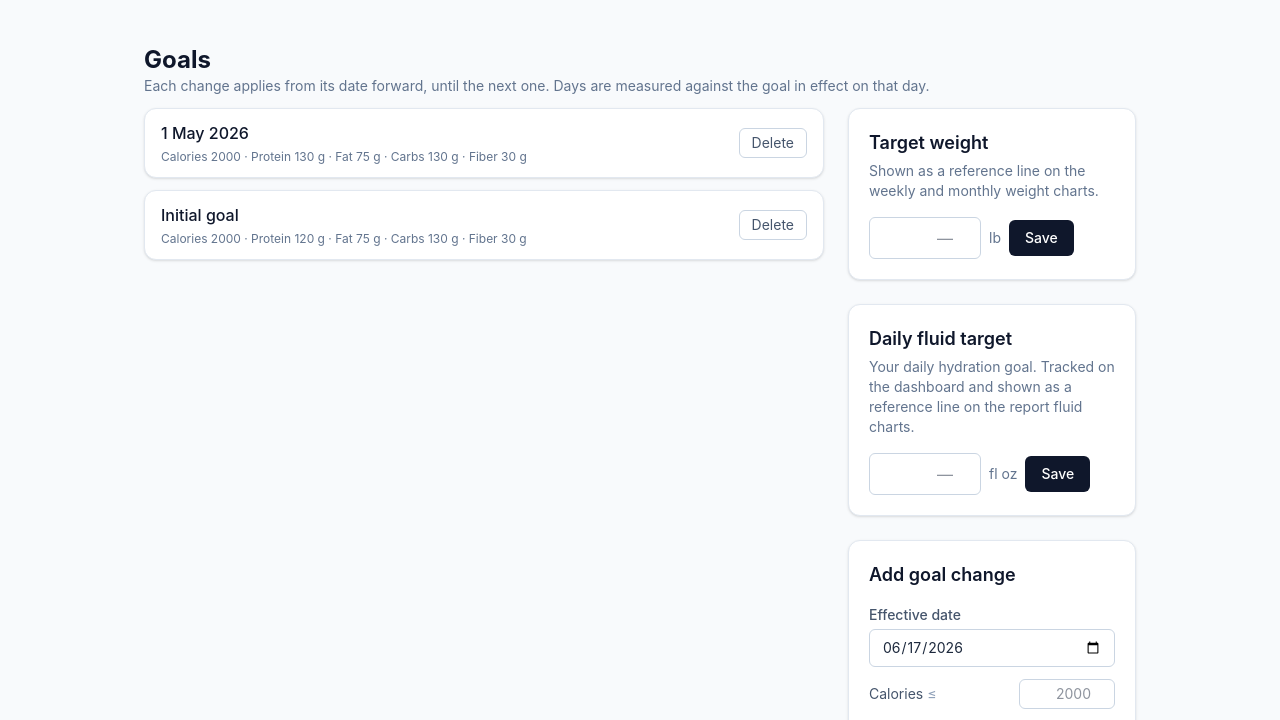
it: GoalsPage › blocks submit and shows an error when a macro is missing
// Fill everything except protein.
Type "2100" into the number field named "Calories goal" at (1067, 694), box 1019,679 -> 1115,709
(page scrolled)
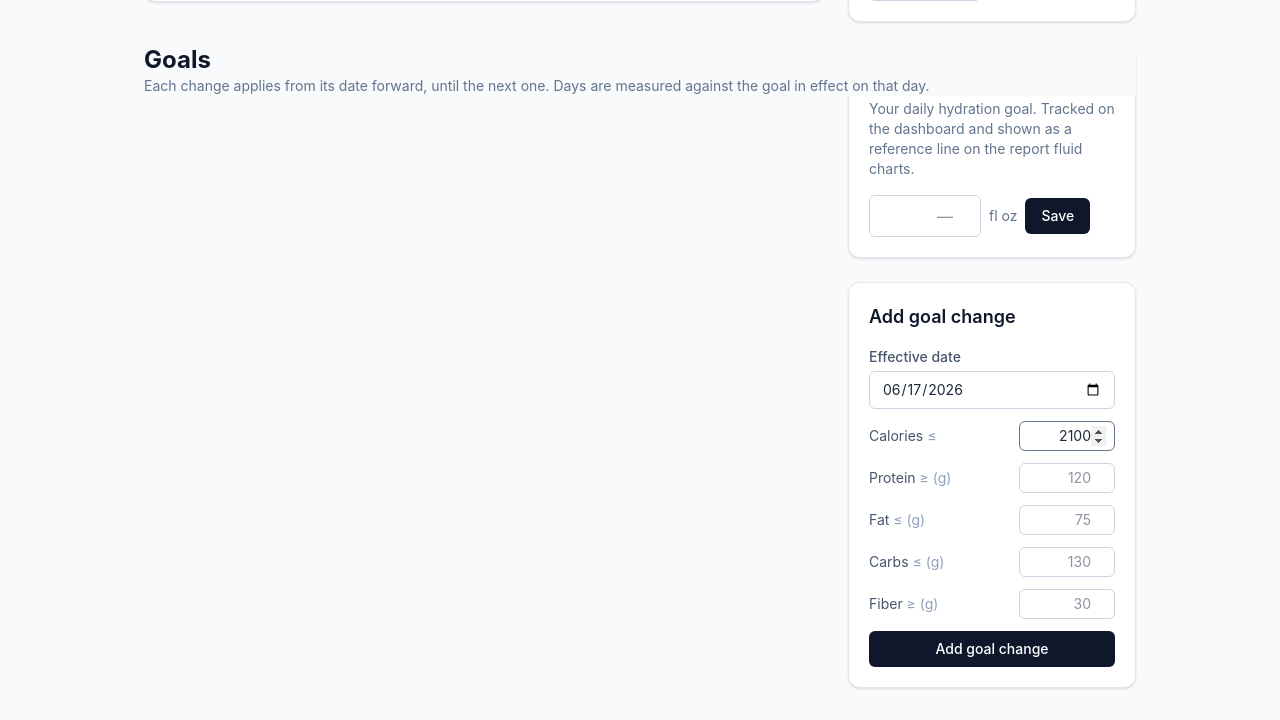
Type "70" into the number field named "Fat goal" at (1067, 520), box 1019,505 -> 1115,535
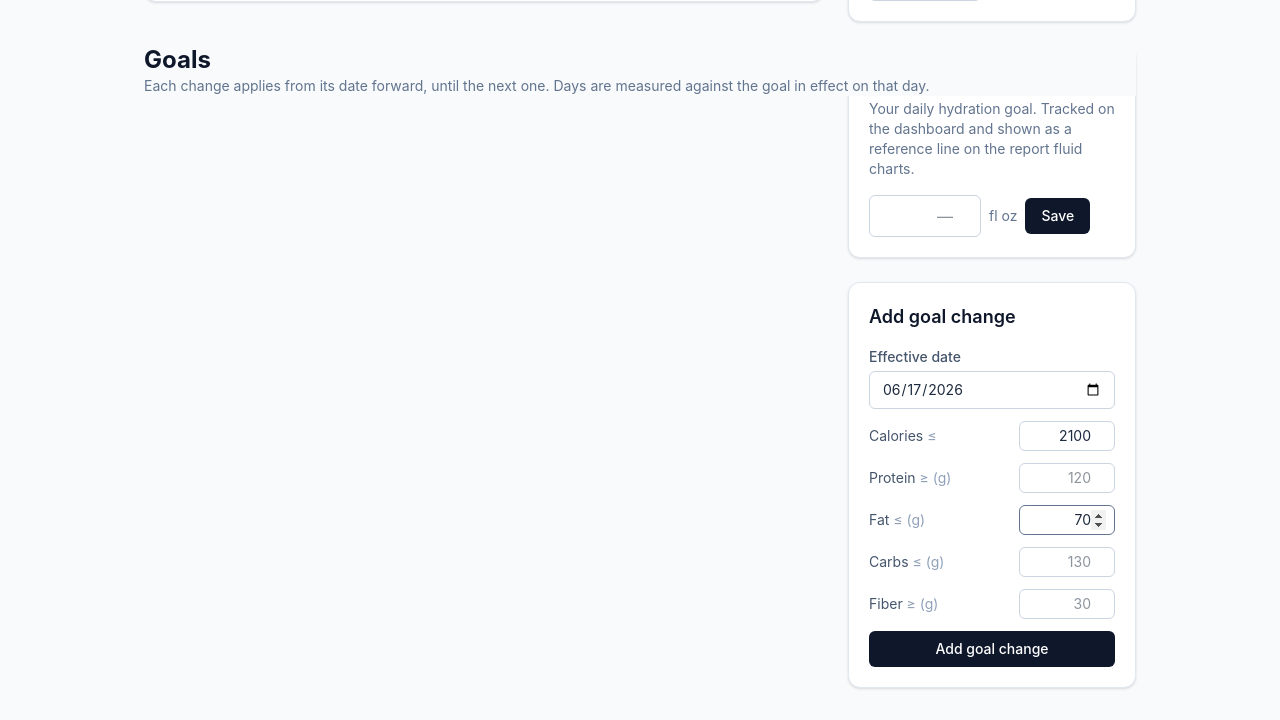
Type "150" into the number field named "Carbs goal" at (1067, 562), box 1019,547 -> 1115,577
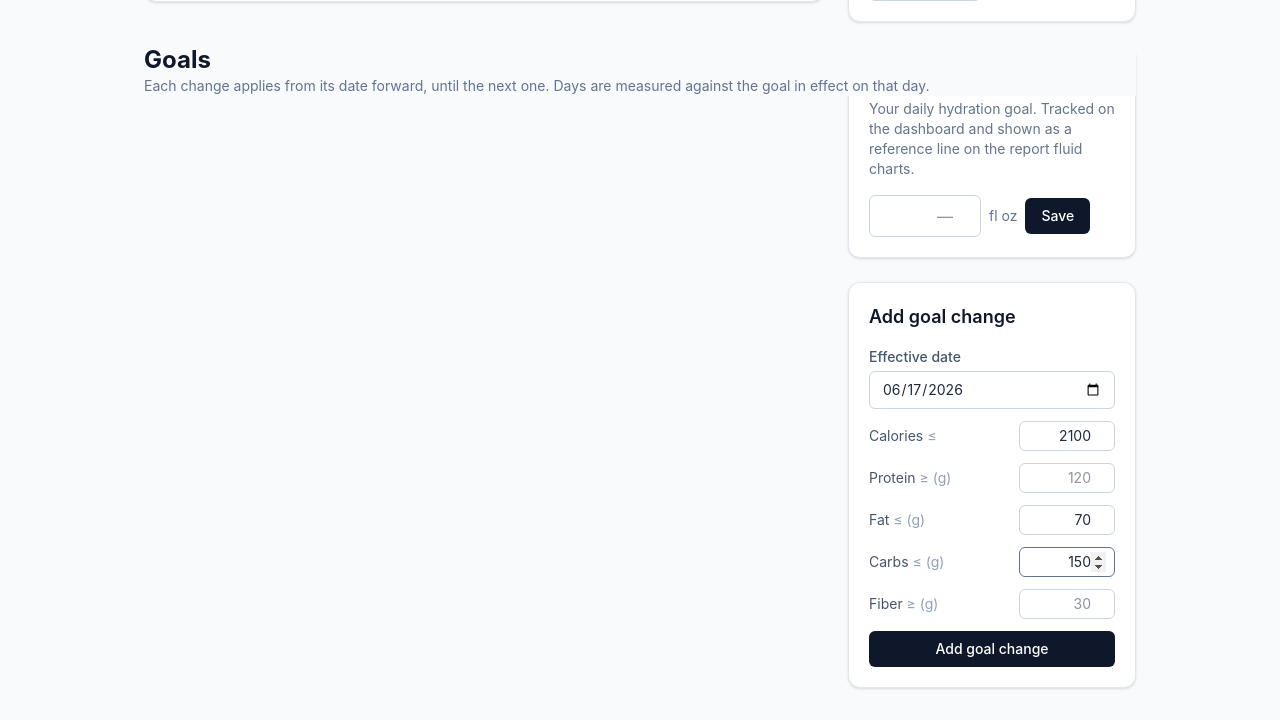
Type "35" into the number field named "Fiber goal" at (1067, 604), box 1019,589 -> 1115,619
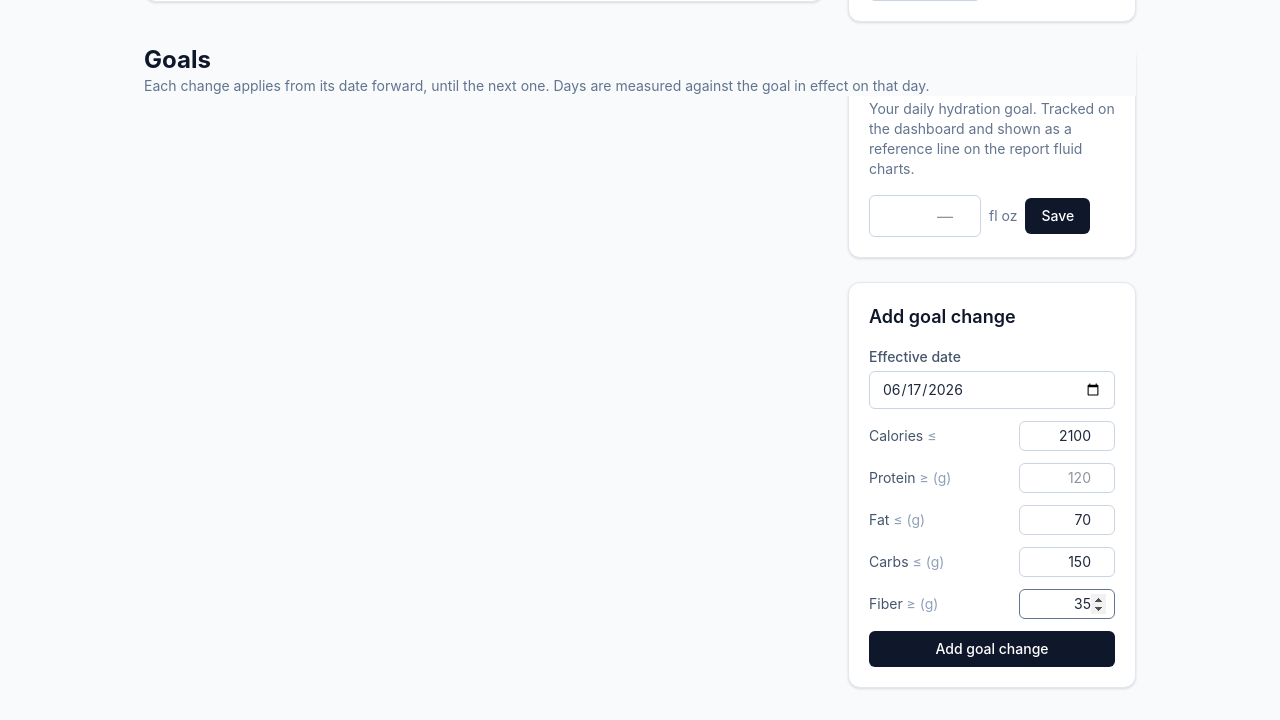
Click the button "Add goal change" at (992, 649), box 869,631 -> 1115,667
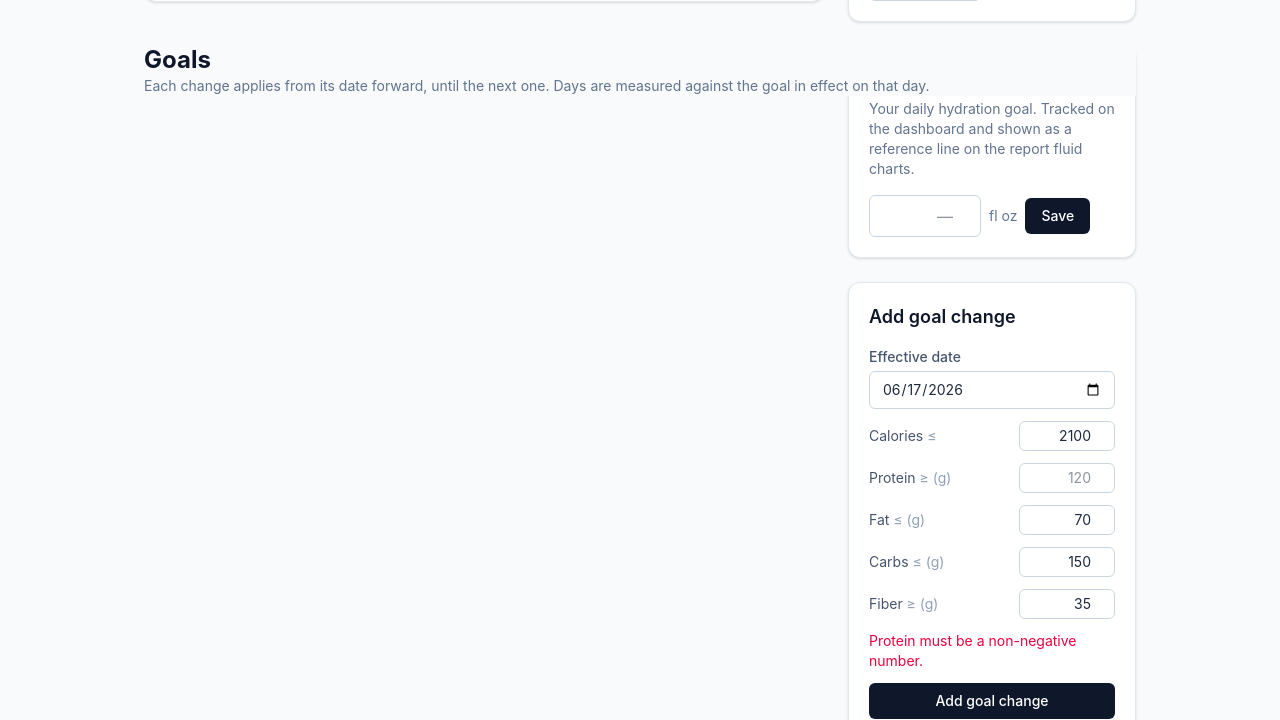
Now the message shows "Protein must be a non-negative number", box 869,632 -> 1076,669
